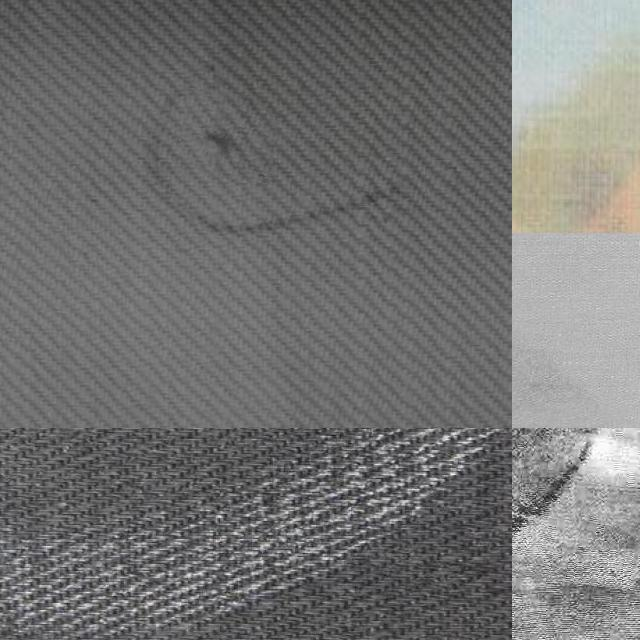Hole: (512, 428, 640, 582)
Thread_other: (180, 90, 278, 180)
